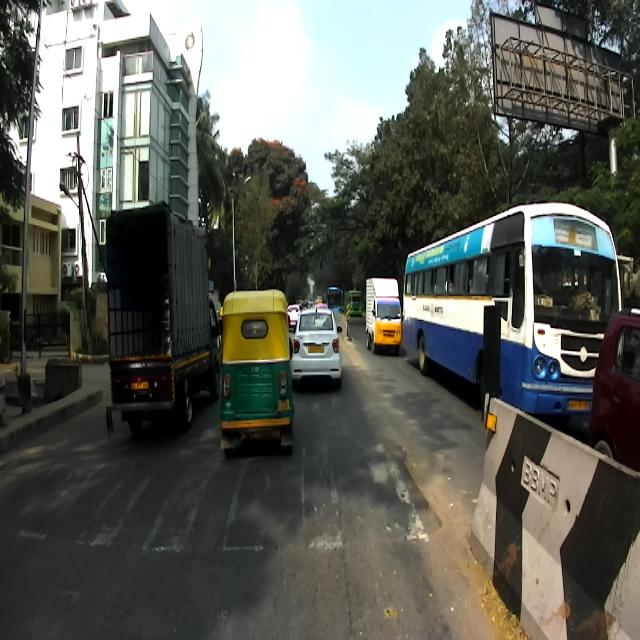auto ahead at: (218, 296, 296, 448)
car ahead at: (297, 305, 343, 390)
truck ahead at: (104, 210, 216, 433)
